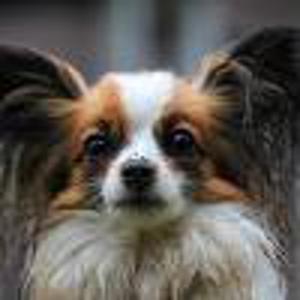yell: (0, 25, 300, 300)
